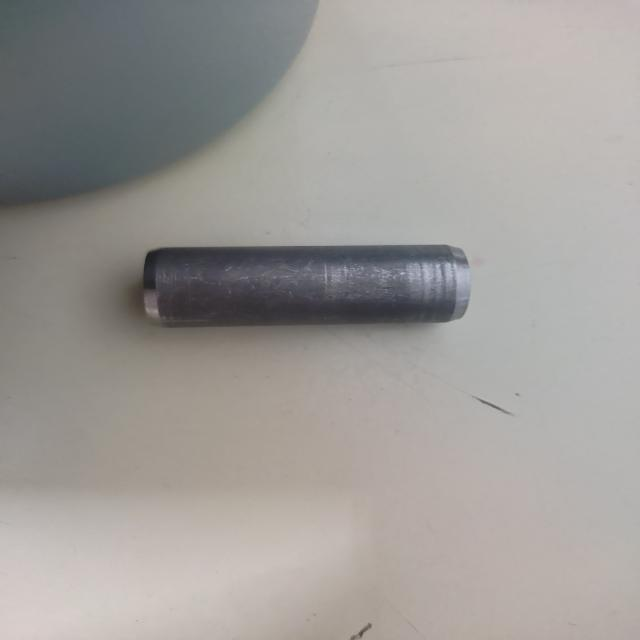Broken: (142, 243, 472, 328)
